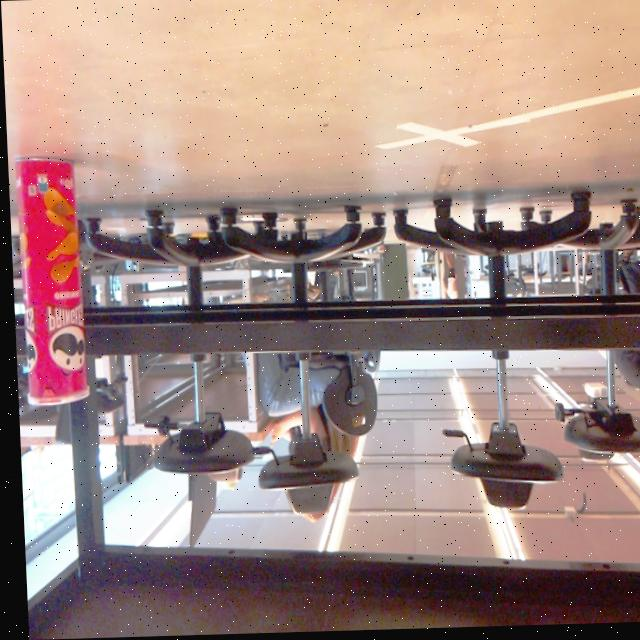redpringles: (9, 144, 90, 422)
